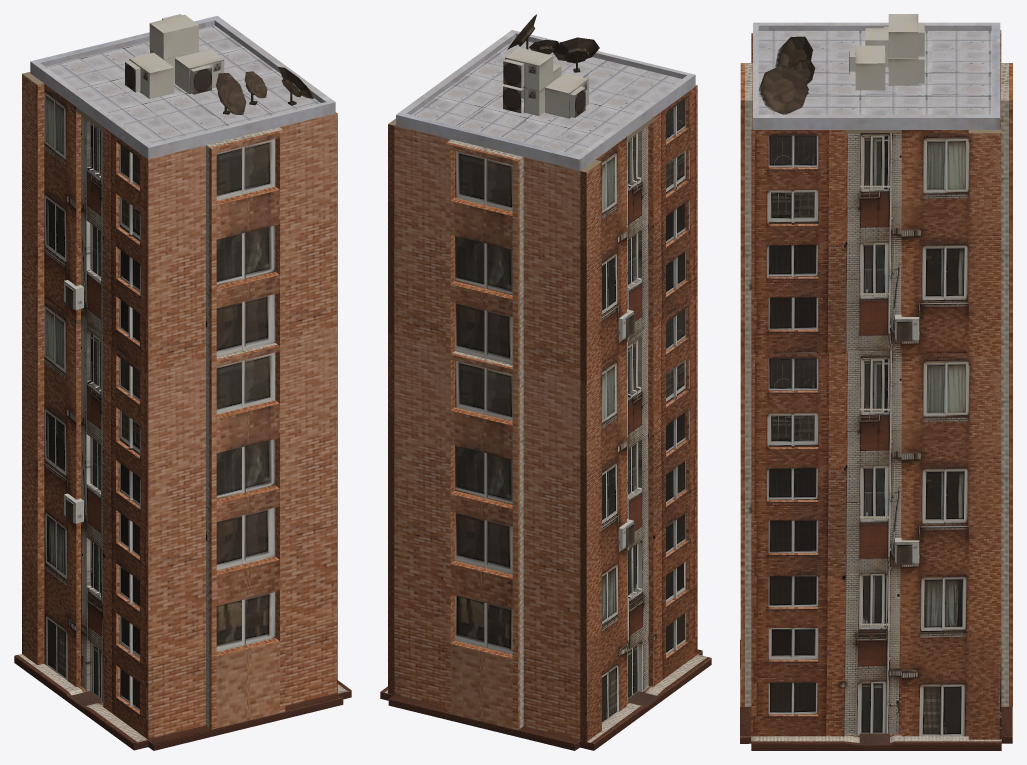
The model's file is building_1.fbx.
3 renders of one model, left to right at view 1: azimuth 30°, elevation 25°; view 2: azimuth 150°, elevation 25°; view 3: azimuth 270°, elevation 25°, orthographic. The views are drawn at different scales.
Visible parts, largest first — view 1: brick_building_tall; view 2: brick_building_tall; view 3: brick_building_tall.
Part boxes in pixels (left/top/right/bottom): brick_building_tall: left=14, top=14, right=351, bottom=750; brick_building_tall: left=380, top=14, right=711, bottom=750; brick_building_tall: left=740, top=14, right=1012, bottom=750.
Bounding box in the file's own units: 1.58 × 4.47 × 1.64.
